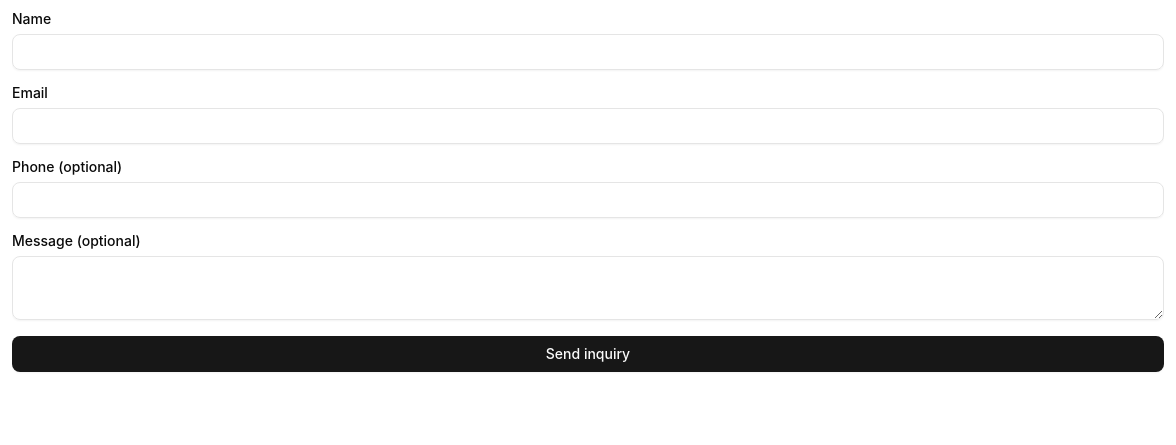
Scenario: InquiryForm › blocks submission and shows errors when required fields are empty
The width and height of the screenshot is (1176, 445).
Click the button "Send inquiry".
click(588, 354)  # box top-left (12, 336), bottom-right (1164, 372)
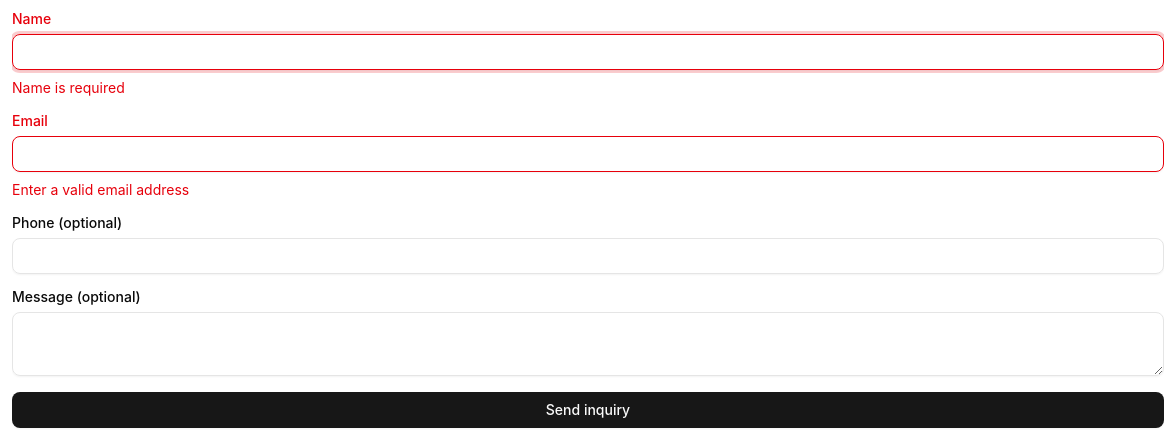
Expected: the text "Name is required" is shown, top-left (12, 79), bottom-right (125, 96)
Expected: the text "Enter a valid email address" is shown, top-left (12, 181), bottom-right (189, 198)
